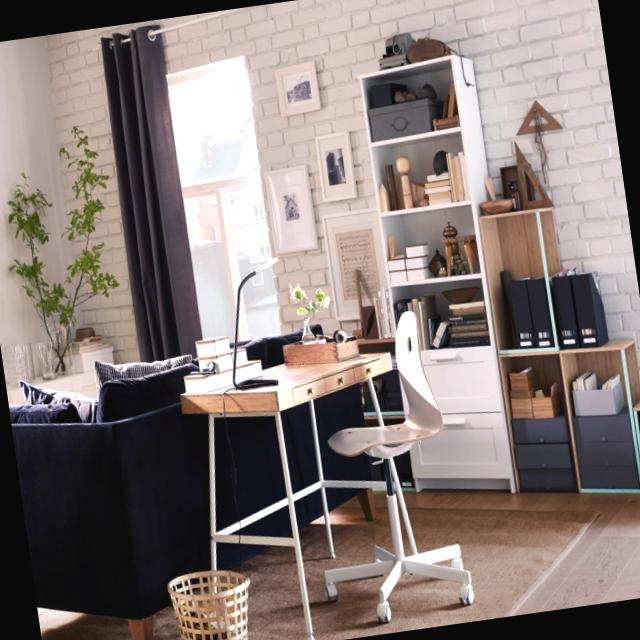footpath: (466, 471, 640, 620)
obstacle: (181, 275, 479, 640), (4, 356, 189, 640), (162, 561, 268, 640)
